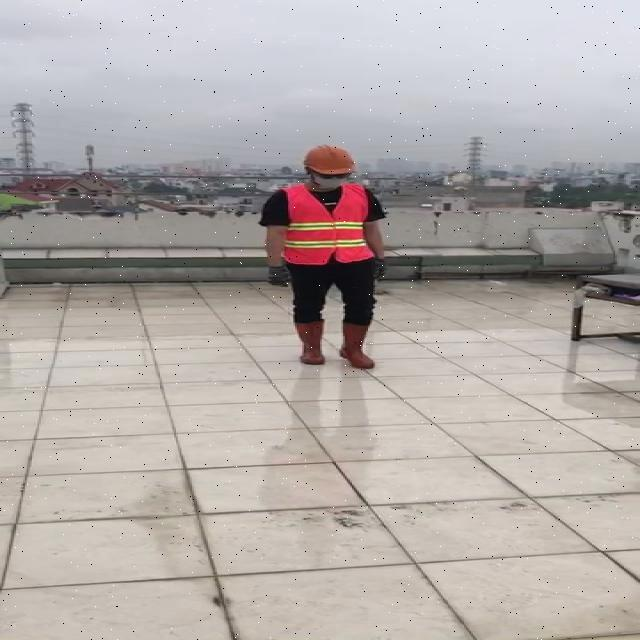Hard_hat: (299, 143, 362, 179)
Person: (245, 137, 389, 376)
Vest: (283, 182, 371, 268)
